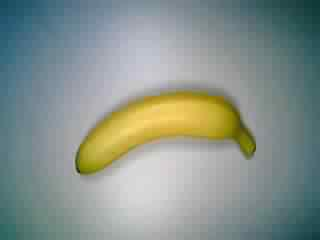banana: (73, 87, 262, 176)
